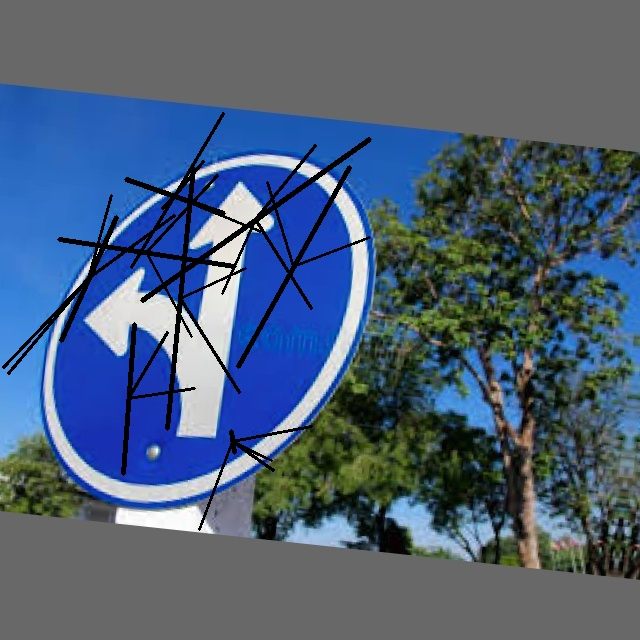Compulsory_Ahead_or_Turn_Left: (32, 128, 379, 513)
